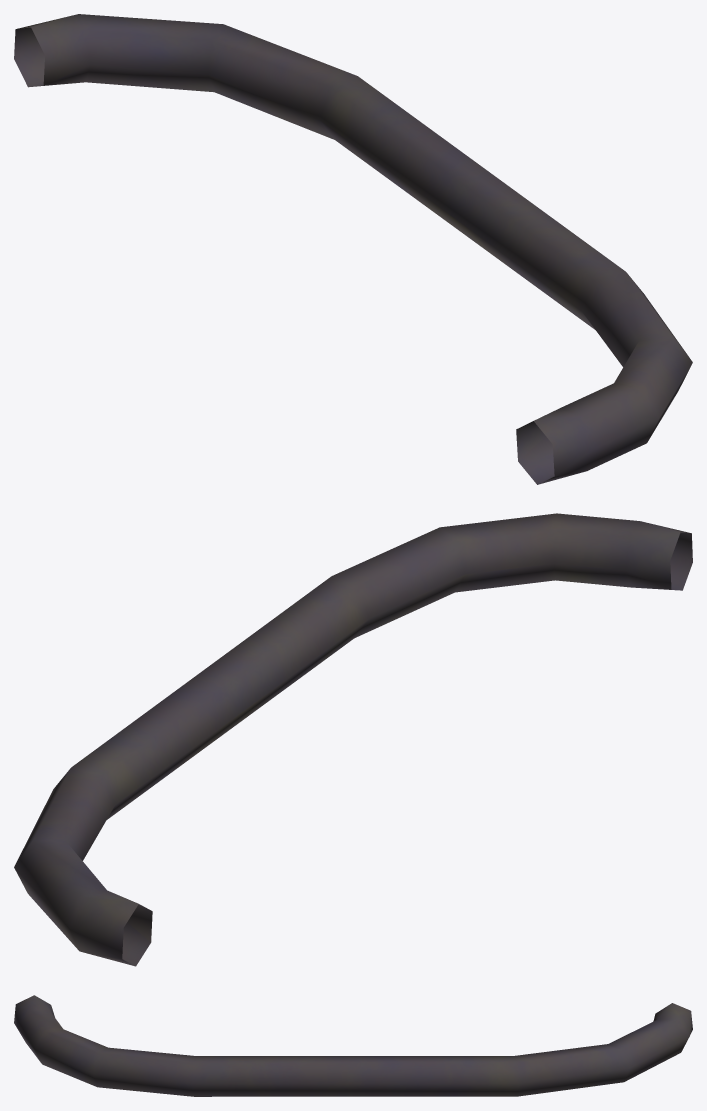
The model's file is Pipes_5.fbx.
The picture shows the model from 3 angles, top to bottom: view 1: azimuth 30°, elevation 25°; view 2: azimuth 150°, elevation 25°; view 3: azimuth 270°, elevation 25°; orthographic projection. The views are drawn at different scales.
Parts seen in each view (by area): view 1: Pipes_5; view 2: Pipes_5; view 3: Pipes_5.
Part boxes in pixels (<box>): Pipes_5: <box>14,14,692,484</box>; Pipes_5: <box>14,513,692,966</box>; Pipes_5: <box>14,995,692,1096</box>.
Size of the model in its own units: 59.7 by 14.41 by 237.
